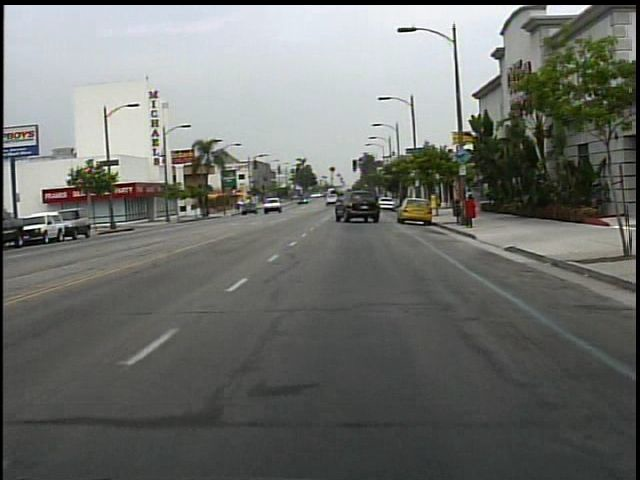person: (461, 186, 482, 219)
